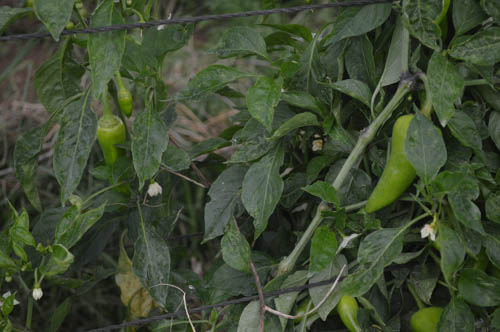ChiliPepper: (364, 116, 429, 219), (98, 125, 129, 192)
